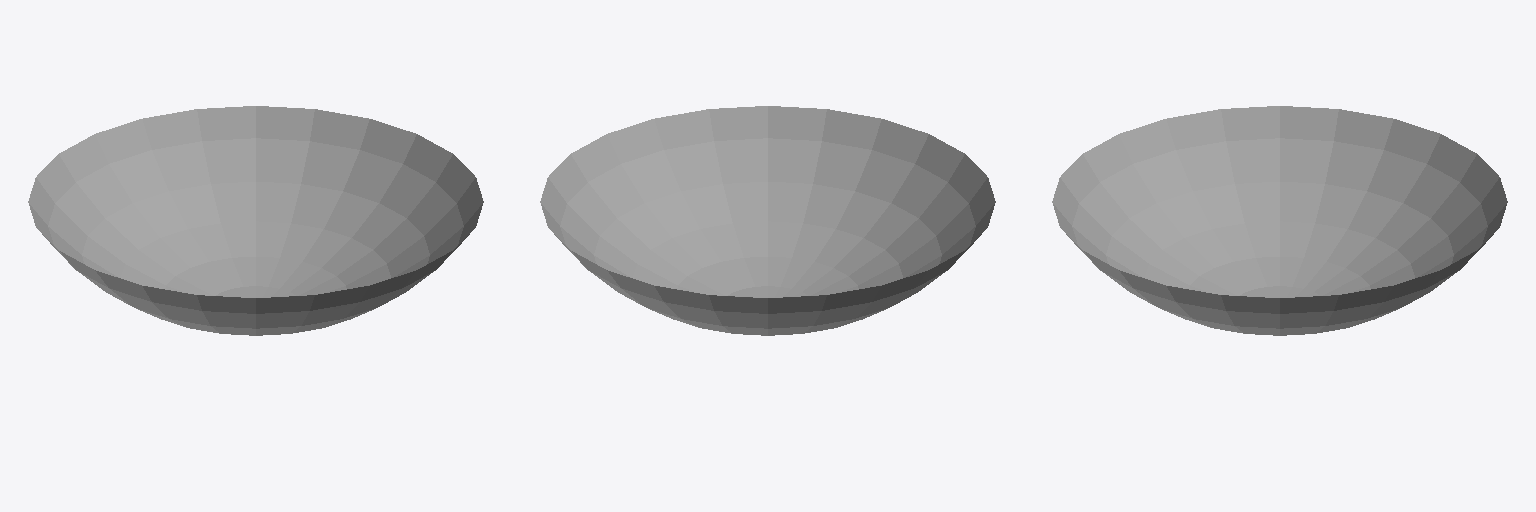
File: turret.obj
3 renders of one model, left to right at view 1: azimuth 30°, elevation 25°; view 2: azimuth 150°, elevation 25°; view 3: azimuth 270°, elevation 25°, orthographic.
Visible parts, largest first — view 1: UESN_YorktownClass_Carrier__CVM5__g_13443-LightGray3; view 2: UESN_YorktownClass_Carrier__CVM5__g_13443-LightGray3; view 3: UESN_YorktownClass_Carrier__CVM5__g_13443-LightGray3.
Part boxes in pixels (x1,y1,x2,y2): UESN_YorktownClass_Carrier__CVM5__g_13443-LightGray3: (28, 106, 483, 335); UESN_YorktownClass_Carrier__CVM5__g_13443-LightGray3: (540, 106, 995, 335); UESN_YorktownClass_Carrier__CVM5__g_13443-LightGray3: (1052, 106, 1507, 335).
Size of the model in its own units: 23.73 by 6.2 by 23.73.